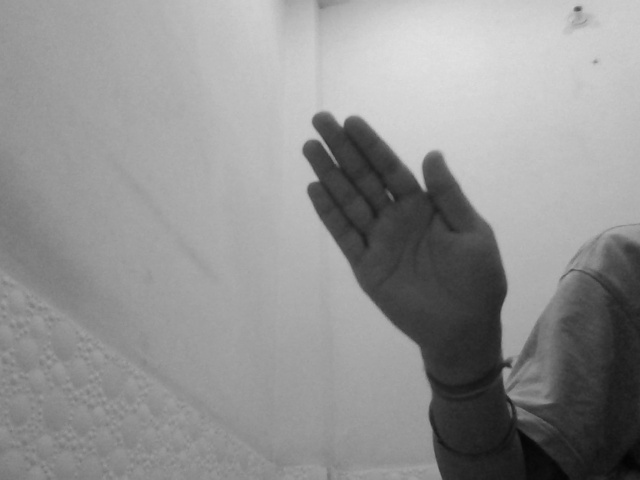Hello: (296, 108, 510, 358)
